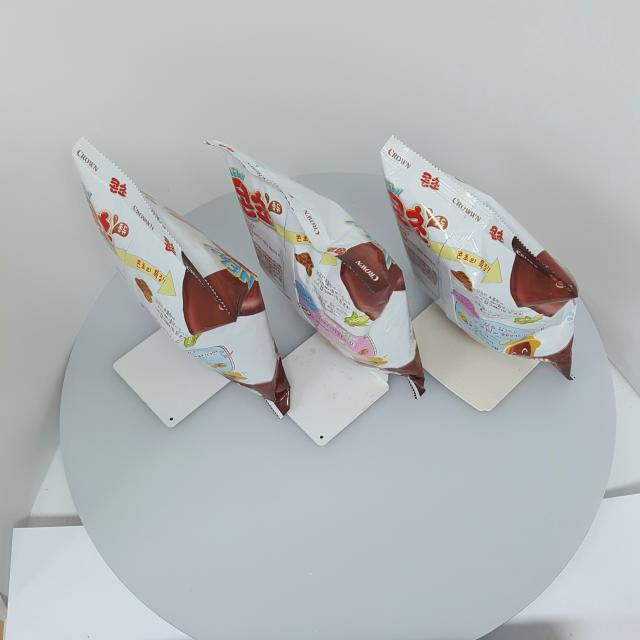-66G: (73, 137, 291, 421), (204, 140, 427, 401), (381, 136, 580, 382)
